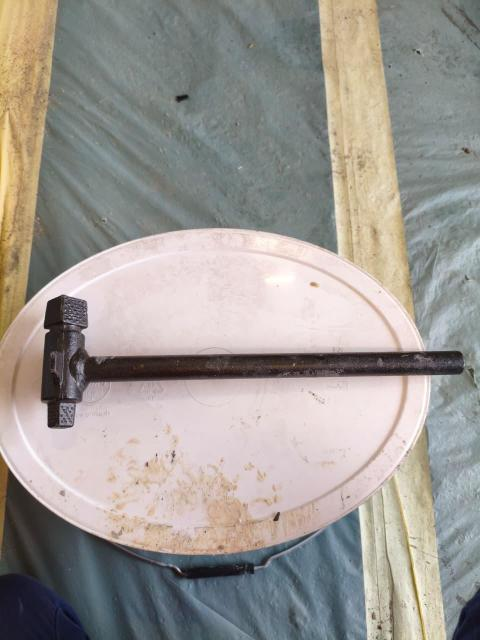Metal: (43, 297, 465, 415)
